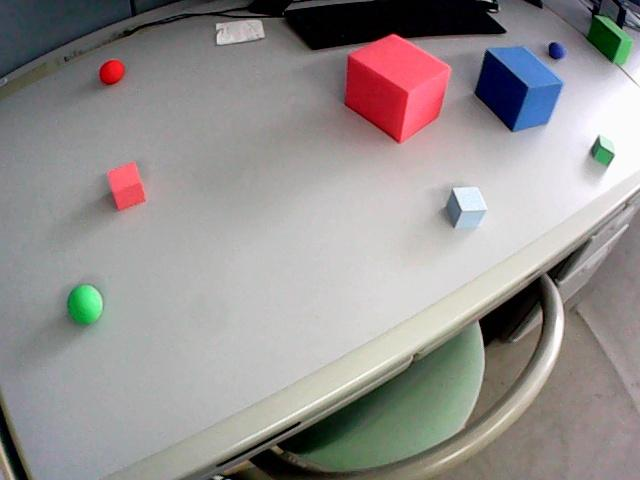blue_block: (475, 47, 563, 131), (446, 187, 487, 228)
red_block: (345, 34, 450, 141), (107, 162, 146, 210)
